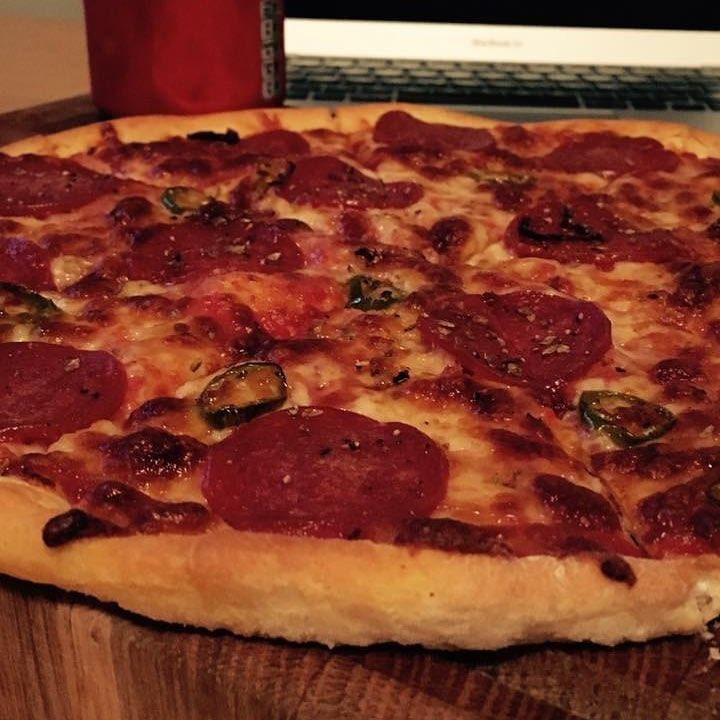Pepperoni: (211, 408, 451, 547), (422, 291, 616, 387), (0, 335, 140, 451), (508, 202, 687, 265), (121, 222, 297, 286), (0, 150, 124, 216), (275, 161, 429, 212), (541, 134, 677, 172), (373, 111, 492, 153), (0, 236, 69, 297), (174, 131, 307, 160)
Peppers: (577, 388, 677, 447), (202, 363, 286, 426), (0, 281, 68, 326), (347, 273, 395, 308), (162, 183, 214, 212)
Pizza: (0, 100, 720, 648)
